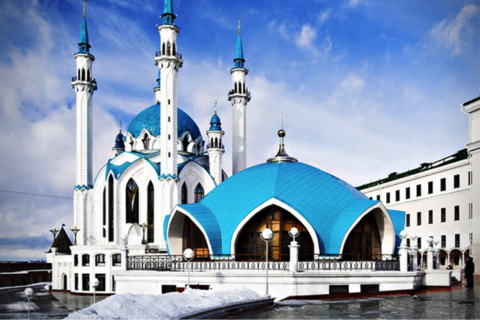Mosque: (66, 1, 404, 290)
